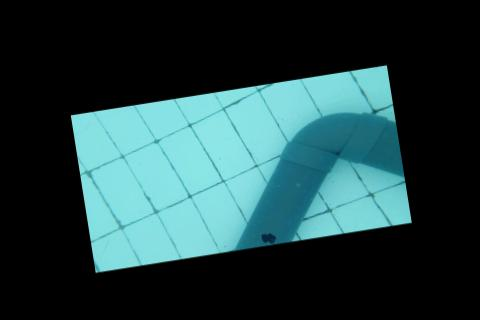kebocoran: (258, 229, 278, 245)
